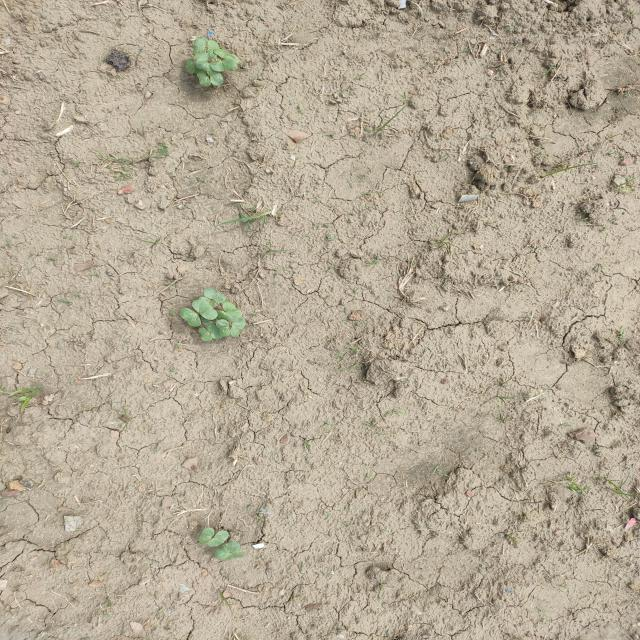seedling: (192, 299, 218, 320), (214, 541, 240, 559), (180, 308, 201, 327), (213, 49, 240, 63), (210, 59, 238, 72), (208, 530, 229, 547), (230, 317, 246, 337), (204, 289, 226, 303), (193, 37, 209, 54), (223, 302, 241, 317), (216, 310, 238, 322), (197, 69, 211, 87), (216, 319, 230, 337), (207, 71, 223, 86), (199, 528, 214, 544), (221, 551, 245, 561), (196, 59, 214, 72), (194, 51, 217, 61), (197, 297, 217, 308), (207, 325, 222, 339), (198, 327, 212, 341), (201, 317, 215, 329), (186, 59, 195, 75), (207, 40, 219, 51)
